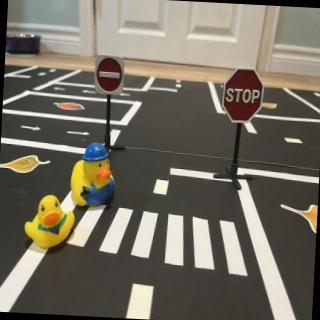duck_regular: (24, 196, 78, 254)
duck_specialty: (70, 143, 118, 212)
road_crosswalk: (63, 205, 257, 282)
road_oneway: (66, 129, 93, 139), (81, 87, 99, 98), (20, 125, 44, 133), (119, 92, 133, 100), (53, 86, 68, 93)
sign_noentry: (95, 56, 127, 97)
sign_stop: (222, 68, 267, 126)
